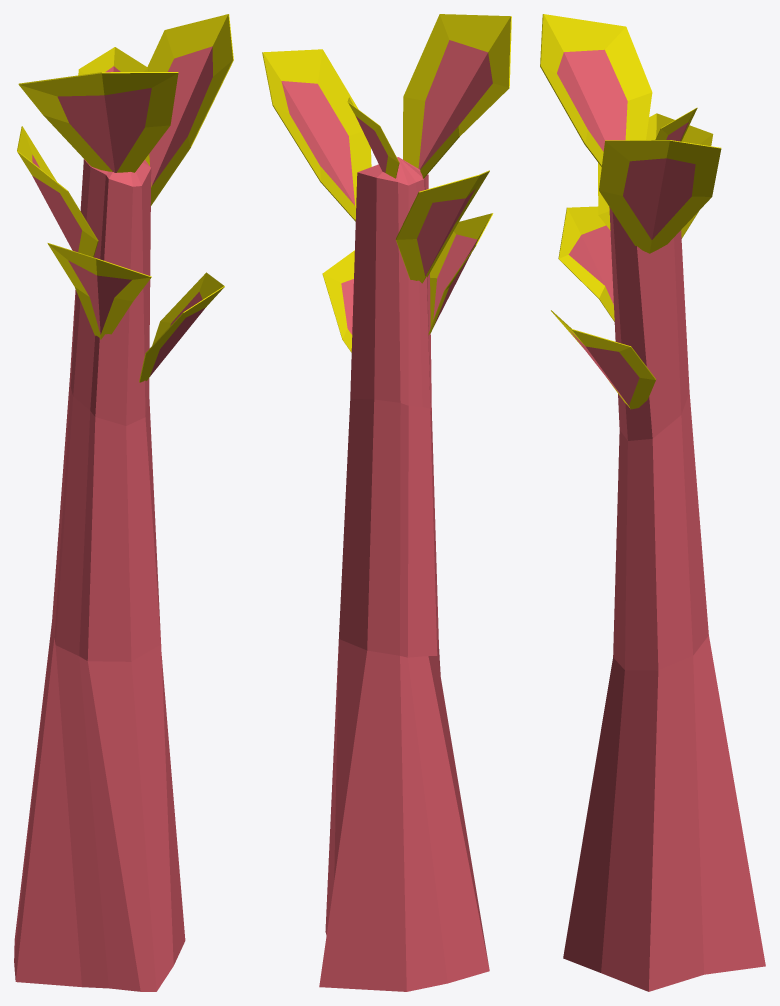
File: tree-crown-small.fbx
The picture shows the model from 3 angles, left to right: view 1: azimuth 30°, elevation 25°; view 2: azimuth 150°, elevation 25°; view 3: azimuth 270°, elevation 25°; orthographic projection. The views are drawn at different scales.
Visible parts, largest first — view 1: tree-crown-small; view 2: tree-crown-small; view 3: tree-crown-small.
Boxes of the visible parts, box(x1,y1,x2,y2) form: tree-crown-small: box(14, 14, 233, 991); tree-crown-small: box(262, 14, 511, 991); tree-crown-small: box(540, 14, 765, 991).
Bounding box in the file's own units: 0.6194 × 2.39 × 0.5355.
